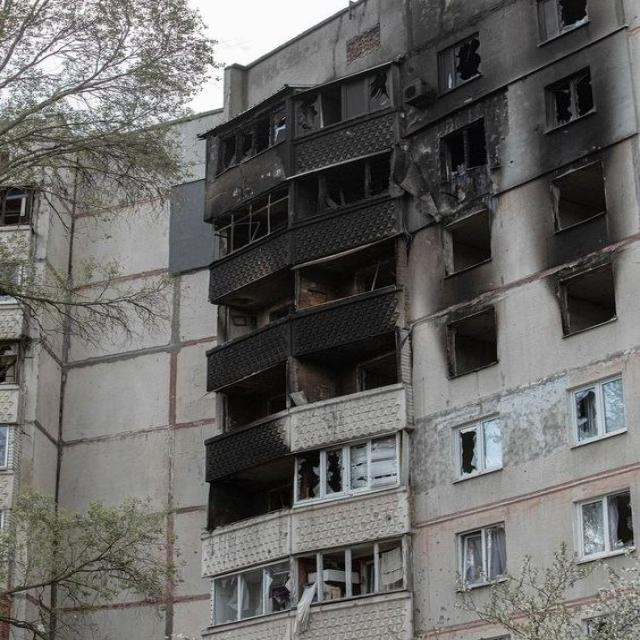broken_window: (572, 487, 633, 564), (566, 372, 626, 448), (443, 304, 498, 379), (541, 64, 597, 134), (454, 521, 508, 592), (452, 414, 504, 482), (435, 30, 482, 96)
building: (0, 104, 226, 638)
